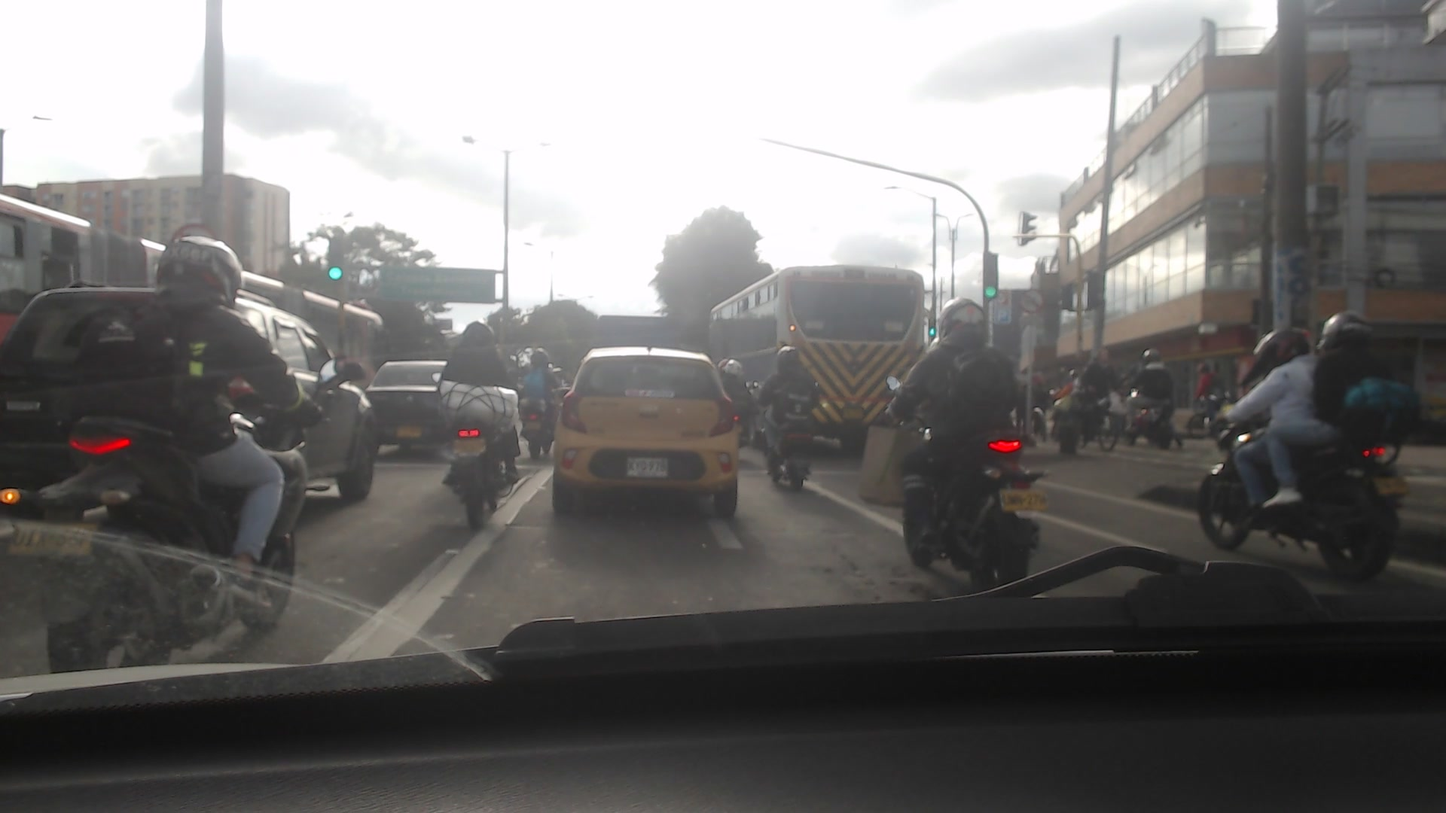bus: (706, 265, 926, 429)
car: (17, 285, 377, 494), (556, 343, 746, 508), (352, 348, 457, 456)
motorcycle: (3, 419, 329, 670), (1193, 389, 1421, 583), (880, 413, 1051, 587), (437, 420, 521, 535), (754, 420, 813, 494)
person: (108, 229, 298, 595), (899, 294, 1033, 537), (1272, 306, 1392, 501), (443, 315, 519, 505), (1232, 326, 1318, 490), (753, 341, 823, 466), (520, 347, 563, 435)
